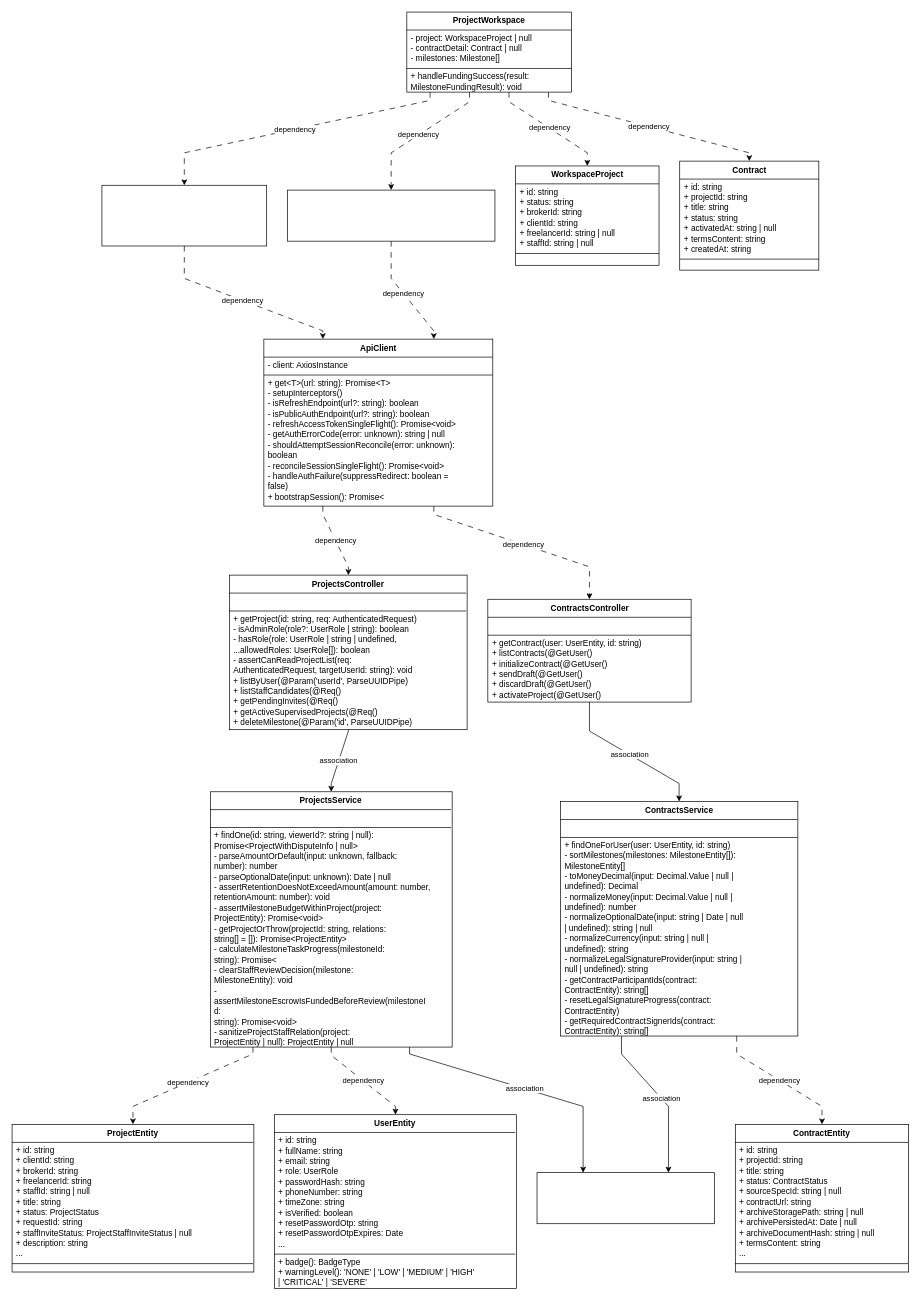
Some shapes in this 921 by 1301 pixel diagram are drawn without their labels. The box of each missing label's shape, as (x1, y1, x2, y2) in pixels:
contractsApi + getContract(id: string): Promise<Contract>: (287, 189, 495, 241)
fetchProject + fetchProject(projectId: string): Promise<WorkspaceProject>: (101, 185, 267, 246)
Repository + findOne(options: any): Promise<any>: (536, 1172, 715, 1224)
